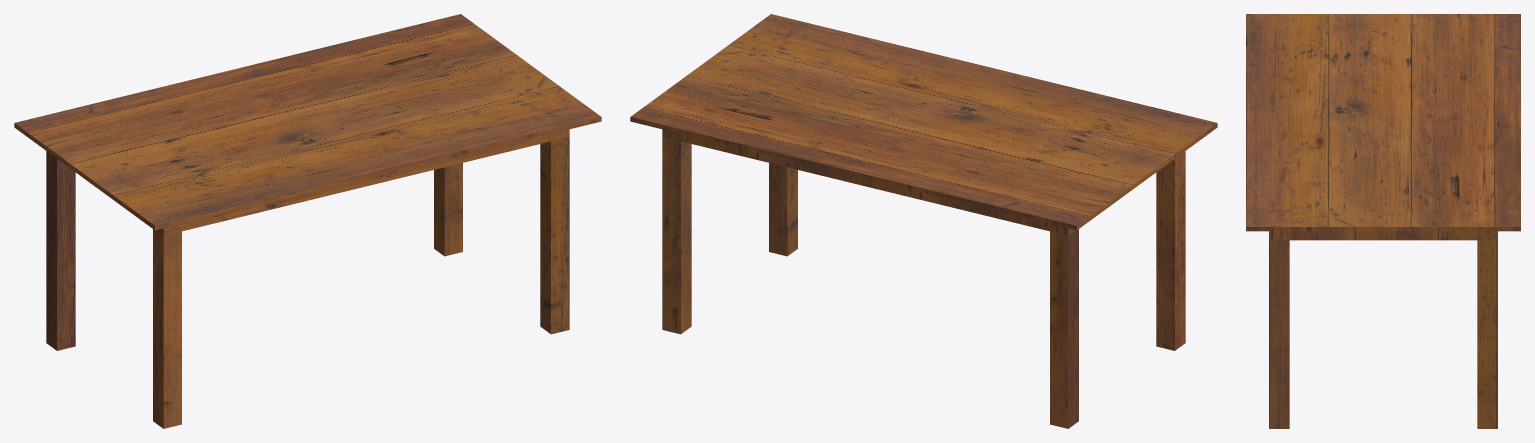
The model's file is table_medium_01.glb.
3 views of the same model, side by side, from view 1: azimuth 30°, elevation 25°; view 2: azimuth 150°, elevation 25°; view 3: azimuth 270°, elevation 25° (orthographic). The views are drawn at different scales.
Visible parts, largest first — view 1: Cube; view 2: Cube; view 3: Cube.
Part boxes in pixels (x1,y1,x2,y2): Cube: (14,14,601,428); Cube: (630,14,1217,428); Cube: (1246,14,1520,428).
Size of the model in its own units: 24.2 by 11.22 by 13.2.
1 material, 1 textured.
